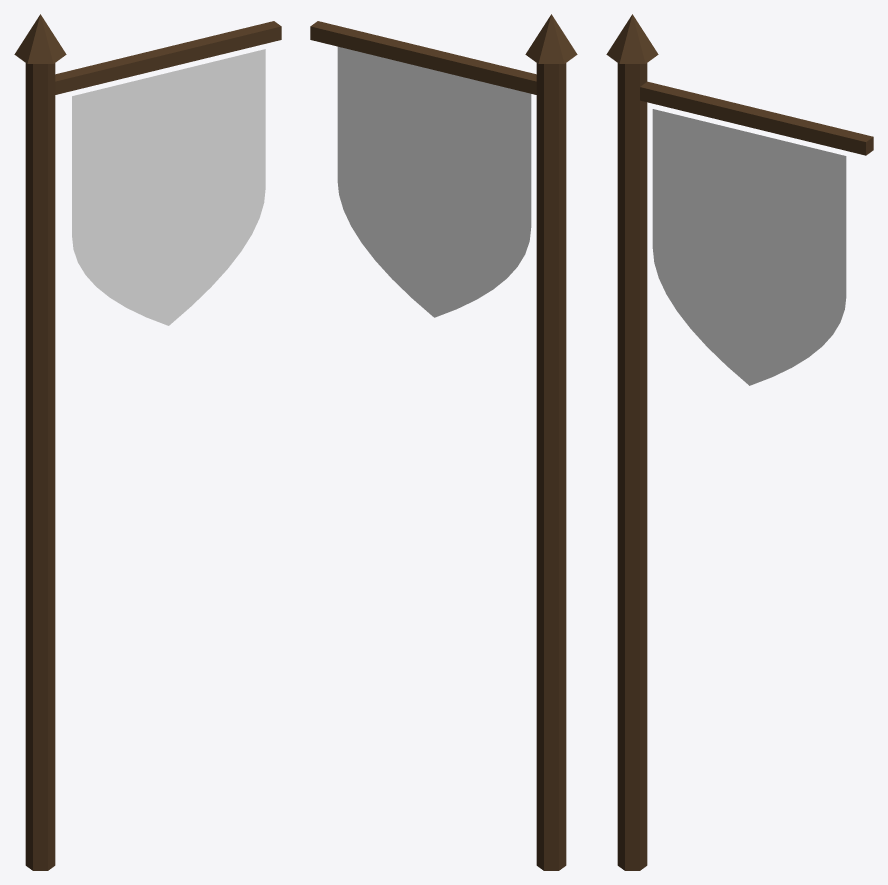
File: crest_banner.glb
3 views of the same model, side by side, from view 1: azimuth 30°, elevation 25°; view 2: azimuth 150°, elevation 25°; view 3: azimuth 330°, elevation 25° (orthographic).
Visible parts, largest first — view 1: crest_banner; view 2: crest_banner; view 3: crest_banner.
Part boxes in pixels (left/top/right/bottom): crest_banner: left=14, top=14, right=281, bottom=870; crest_banner: left=310, top=14, right=577, bottom=870; crest_banner: left=606, top=14, right=873, bottom=870.
Bounding box in the file's own units: 0.7956 × 2.52 × 0.14.
